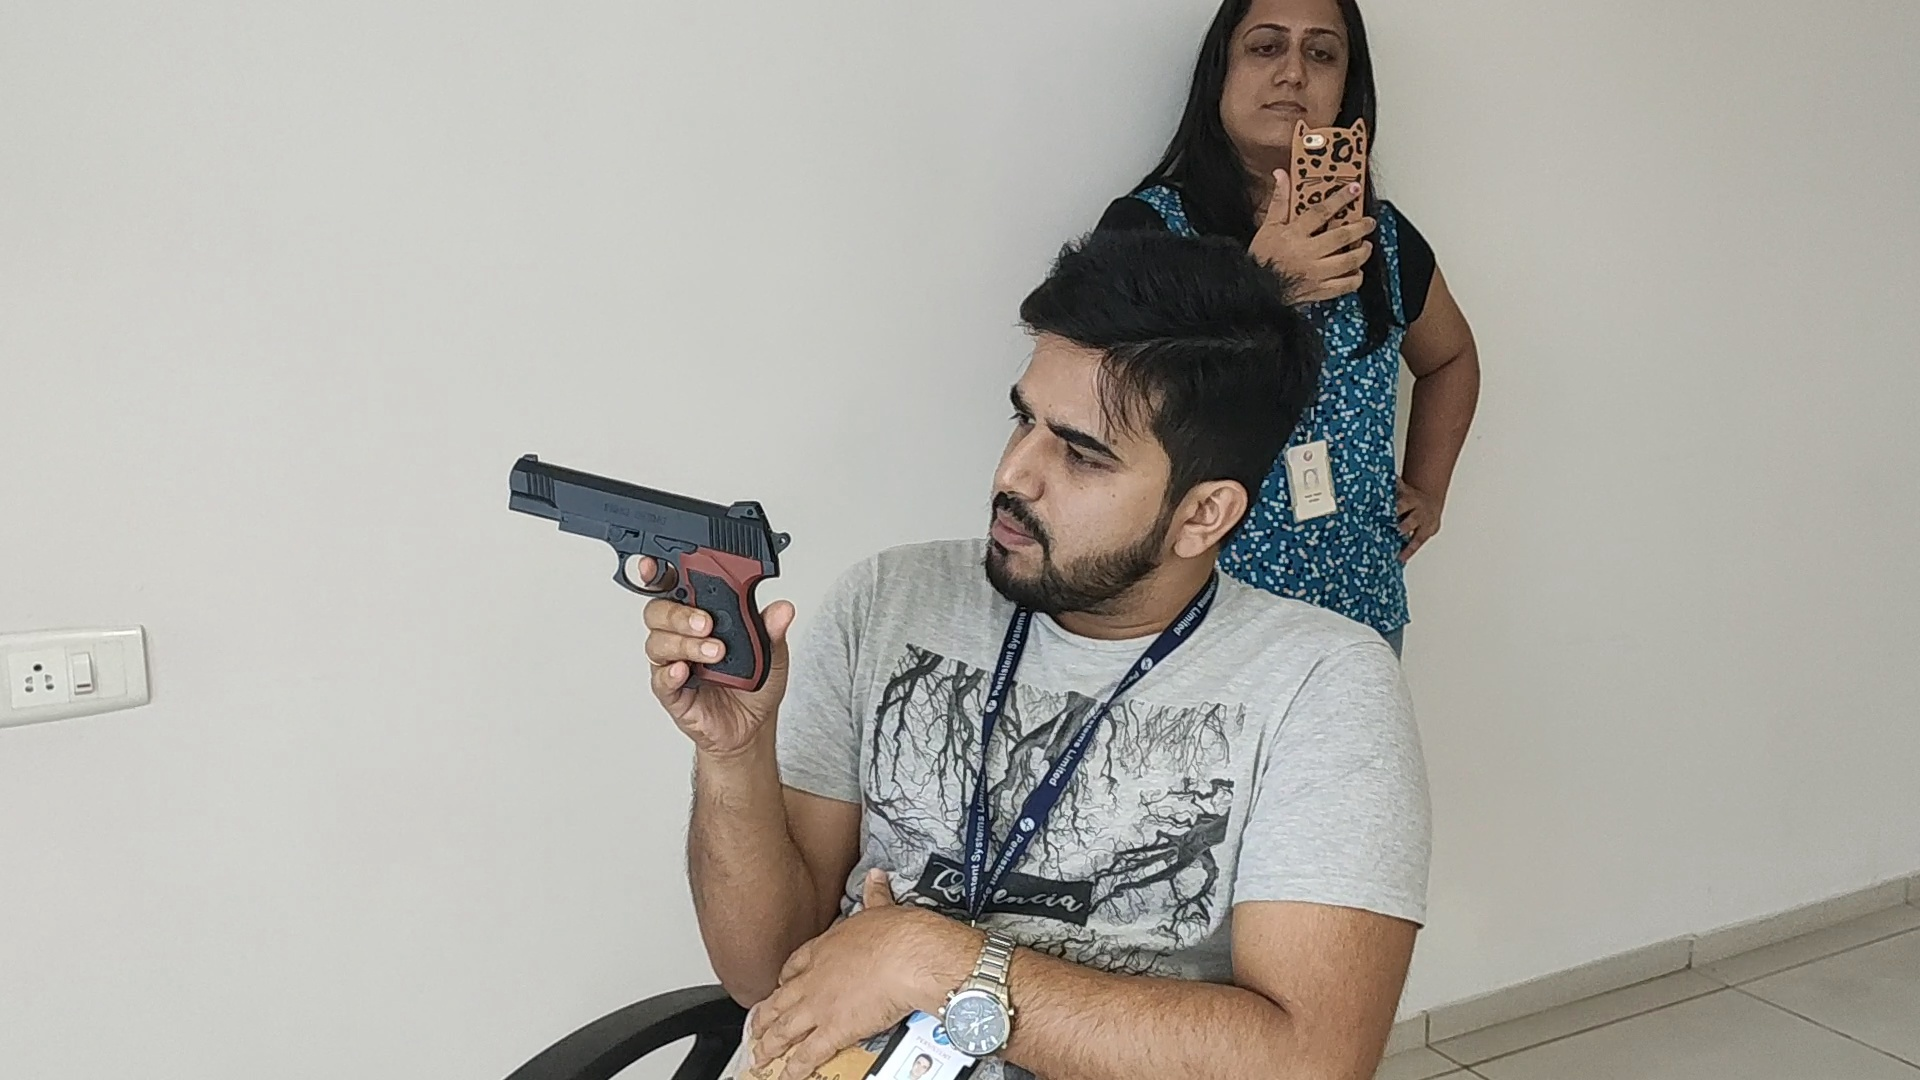gun: (506, 454, 791, 597)
